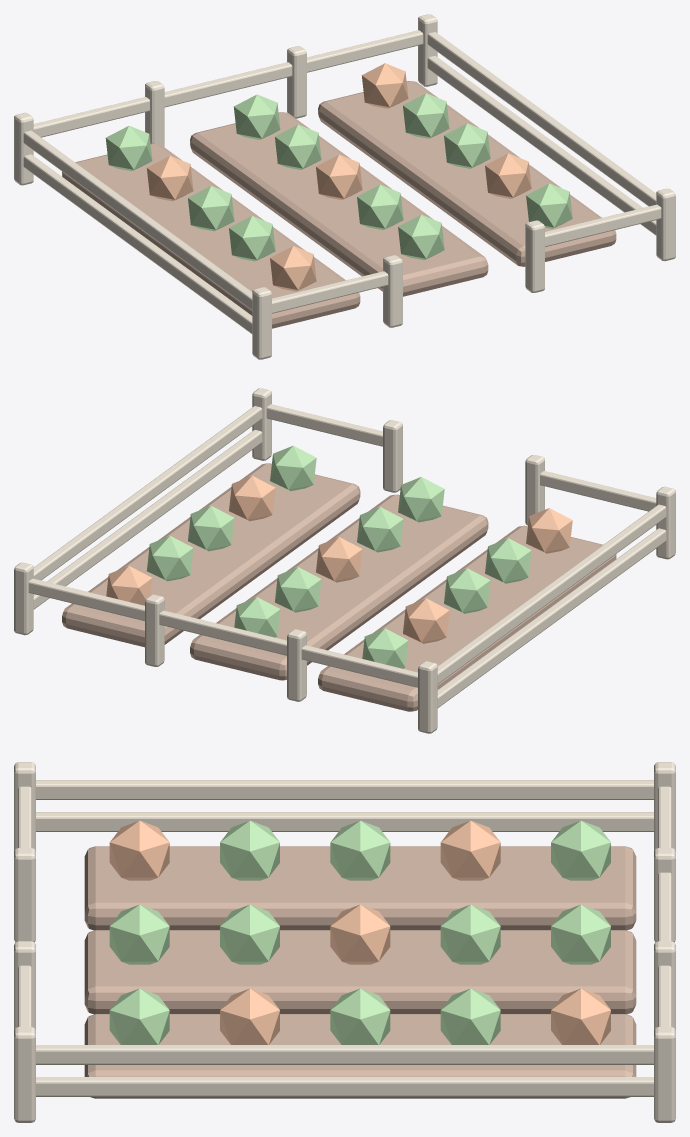
Rendered from pole.glb.
3 views of the same model, one above another, from view 1: azimuth 30°, elevation 25°; view 2: azimuth 150°, elevation 25°; view 3: azimuth 270°, elevation 25° (orthographic). The views are drawn at different scales.
Visible parts, largest first — view 1: Cube.001, Cube.002, Cube, Cube.007, Cube.003, Cube.004, Cube.005, Cube.006, Cube.017, Cube.016, Icosphere.004, Icosphere.014 (+21 smaller); view 2: Cube.001, Cube.002, Cube, Cube.007, Cube.003, Cube.004, Cube.005, Cube.006, Cube.017, Cube.016, Icosphere.006, Icosphere (+21 smaller); view 3: Cube, Cube.001, Cube.002, Cube.003, Cube.005, Cube.006, Cube.004, Icosphere.005, Icosphere.008, Icosphere.007, Icosphere, Icosphere.003 (+21 smaller).
Boxes of the visible parts, bbox=[...] form: Cube.001: bbox=[190, 112, 488, 296]; Cube.002: bbox=[318, 81, 616, 266]; Cube: bbox=[62, 143, 360, 328]; Cube.007: bbox=[33, 30, 423, 137]; Cube.003: bbox=[23, 130, 252, 310]; Cube.004: bbox=[23, 154, 252, 333]; Cube.005: bbox=[427, 32, 656, 206]; Cube.006: bbox=[427, 56, 656, 235]; Cube.017: bbox=[545, 204, 661, 246]; Cube.016: bbox=[272, 271, 388, 313]; Icosphere.004: bbox=[105, 125, 152, 171]; Icosphere.014: bbox=[361, 63, 408, 108]; Cube.001: bbox=[190, 494, 488, 680]; Cube.002: bbox=[62, 463, 360, 647]; Cube: bbox=[318, 525, 616, 711]; Cube.007: bbox=[28, 578, 417, 687]; Cube.003: bbox=[437, 504, 666, 684]; Cube.004: bbox=[437, 528, 666, 707]; Cube.005: bbox=[33, 406, 262, 580]; Cube.006: bbox=[33, 430, 262, 609]; Cube.017: bbox=[266, 404, 382, 446]; Cube.016: bbox=[540, 471, 656, 511]; Icosphere.006: bbox=[357, 507, 403, 552]; Icosphere: bbox=[526, 508, 572, 553]; Cube: bbox=[84, 846, 636, 930]; Cube.001: bbox=[84, 930, 636, 1014]; Cube.002: bbox=[84, 1014, 636, 1098]; Cube.003: bbox=[36, 780, 653, 799]; Cube.005: bbox=[36, 1045, 653, 1064]; Cube.006: bbox=[36, 1077, 653, 1096]; Cube.004: bbox=[36, 812, 653, 831]; Icosphere.005: bbox=[109, 904, 169, 964]; Icosphere.008: bbox=[440, 904, 500, 964]; Icosphere.007: bbox=[330, 904, 390, 964]; Icosphere: bbox=[109, 820, 169, 880]; Icosphere.003: bbox=[440, 820, 500, 880].
Size of the model in its own units: 2.94 by 0.45 by 3.
